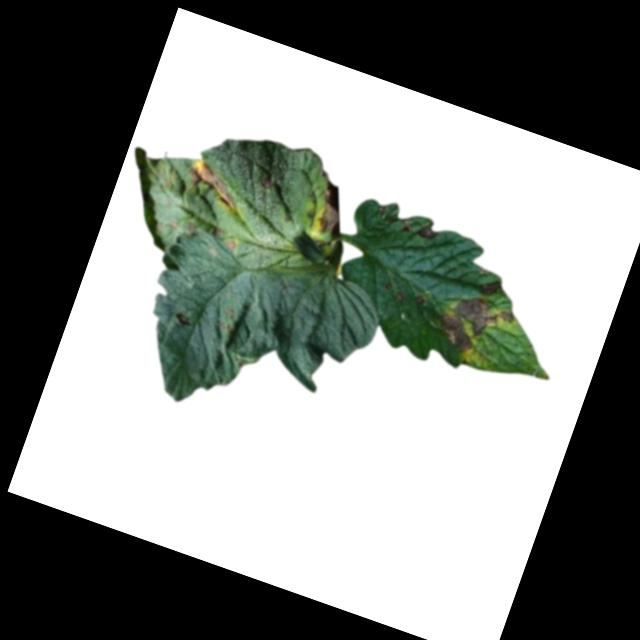Early_blight: (431, 289, 518, 369), (183, 155, 250, 208), (310, 181, 354, 240), (415, 222, 443, 243), (173, 309, 194, 328), (225, 237, 241, 254), (414, 291, 428, 306), (395, 286, 406, 300)
